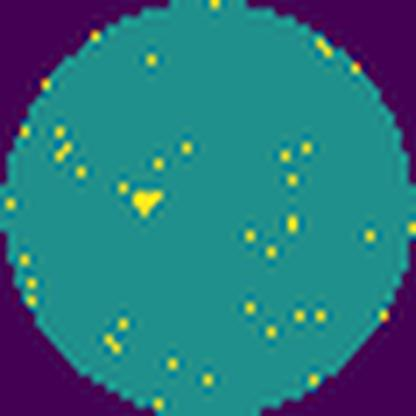Loc: (132, 189, 162, 215)
